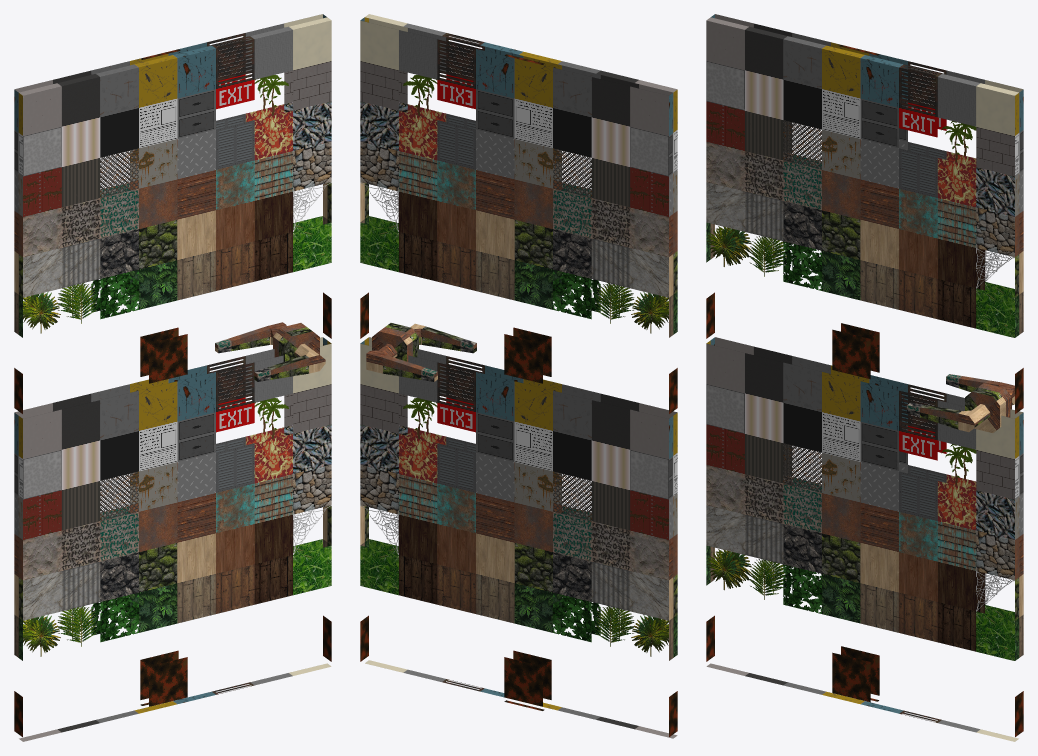
The model's file is OfficeDoor.fbx.
3 views of the same model, side by side, from view 1: azimuth 30°, elevation 25°; view 2: azimuth 150°, elevation 25°; view 3: azimuth 330°, elevation 25° (orthographic).
Parts seen in each view (by area): view 1: Door; view 2: Door; view 3: Door.
Part boxes in pixels (x1,y1,x2,y2): Door: [14, 14, 331, 741]; Door: [360, 14, 677, 738]; Door: [706, 14, 1023, 741].
Size of the model in its own units: 1 by 2 by 0.24.
